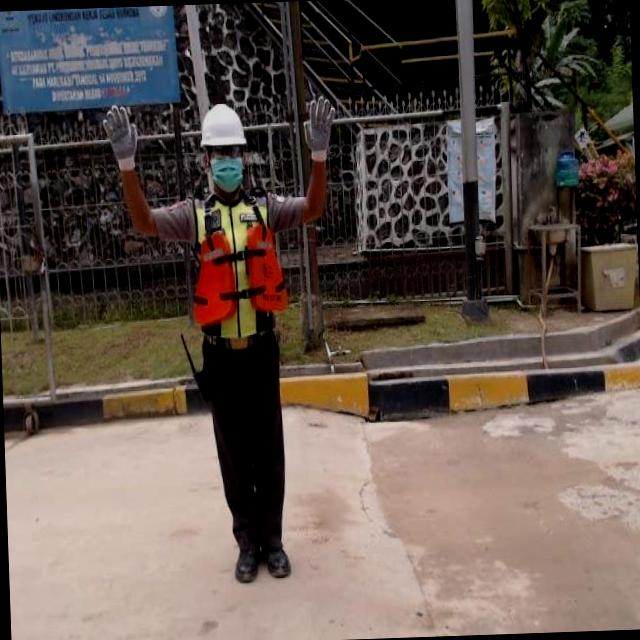boots: (264, 536, 294, 586), (234, 537, 262, 588)
gloves: (87, 98, 150, 166), (292, 96, 342, 162)
helmet: (197, 102, 246, 154)
vest: (190, 196, 290, 339)
